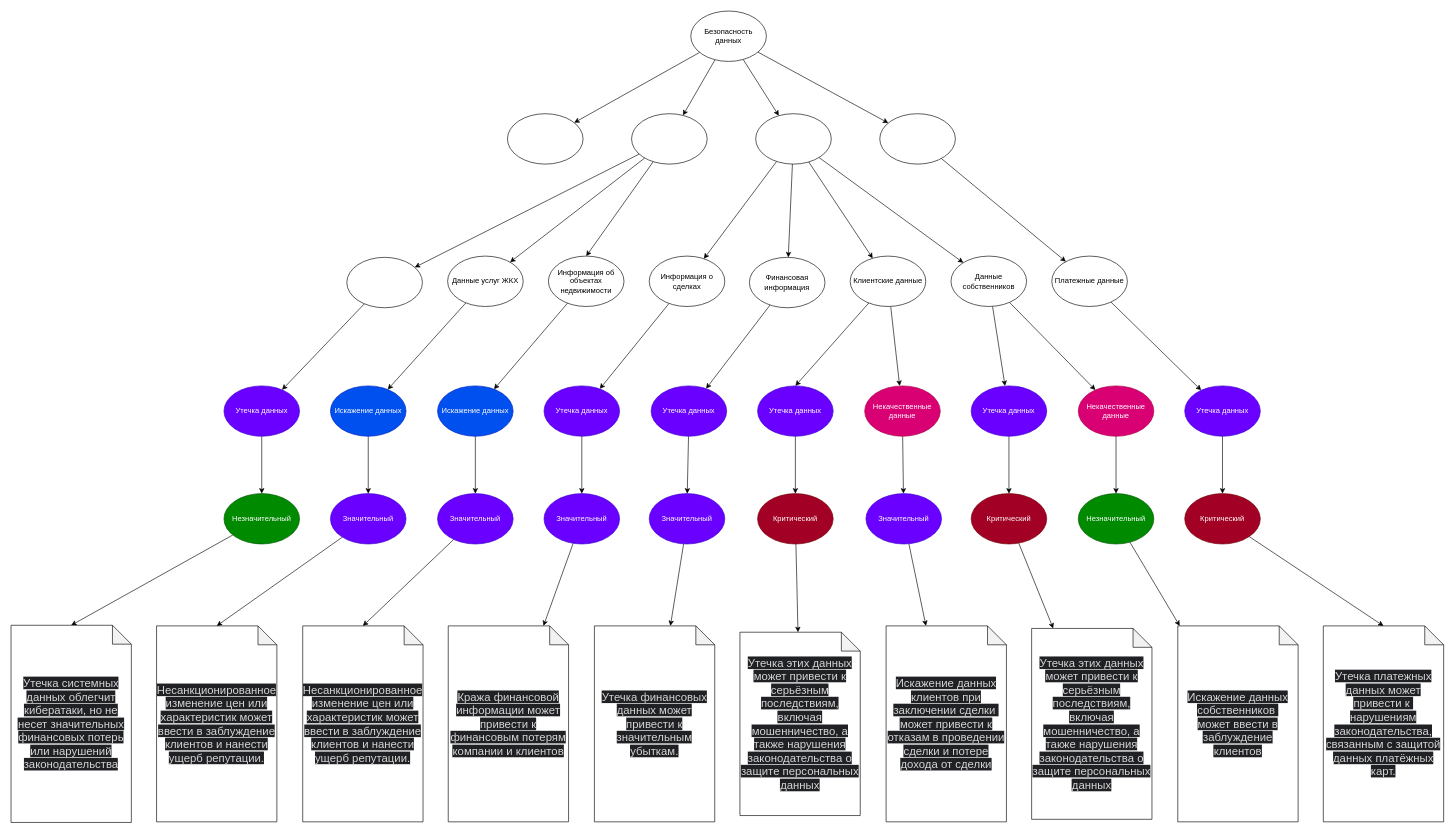
This 1455x833 diagram has some shape labels left out. Here are the shapes that lost their labels. From the top down, the centre of each, then its label:
At pixel 545 138: "Публичные данные".
At pixel 669 138: "Внутренние данные".
At pixel 793 138: "Конфиденциальные данные".
At pixel 917 138: "Секретные данные".
At pixel 384 282: "Журналы, конфигурация, инфраструктура".
